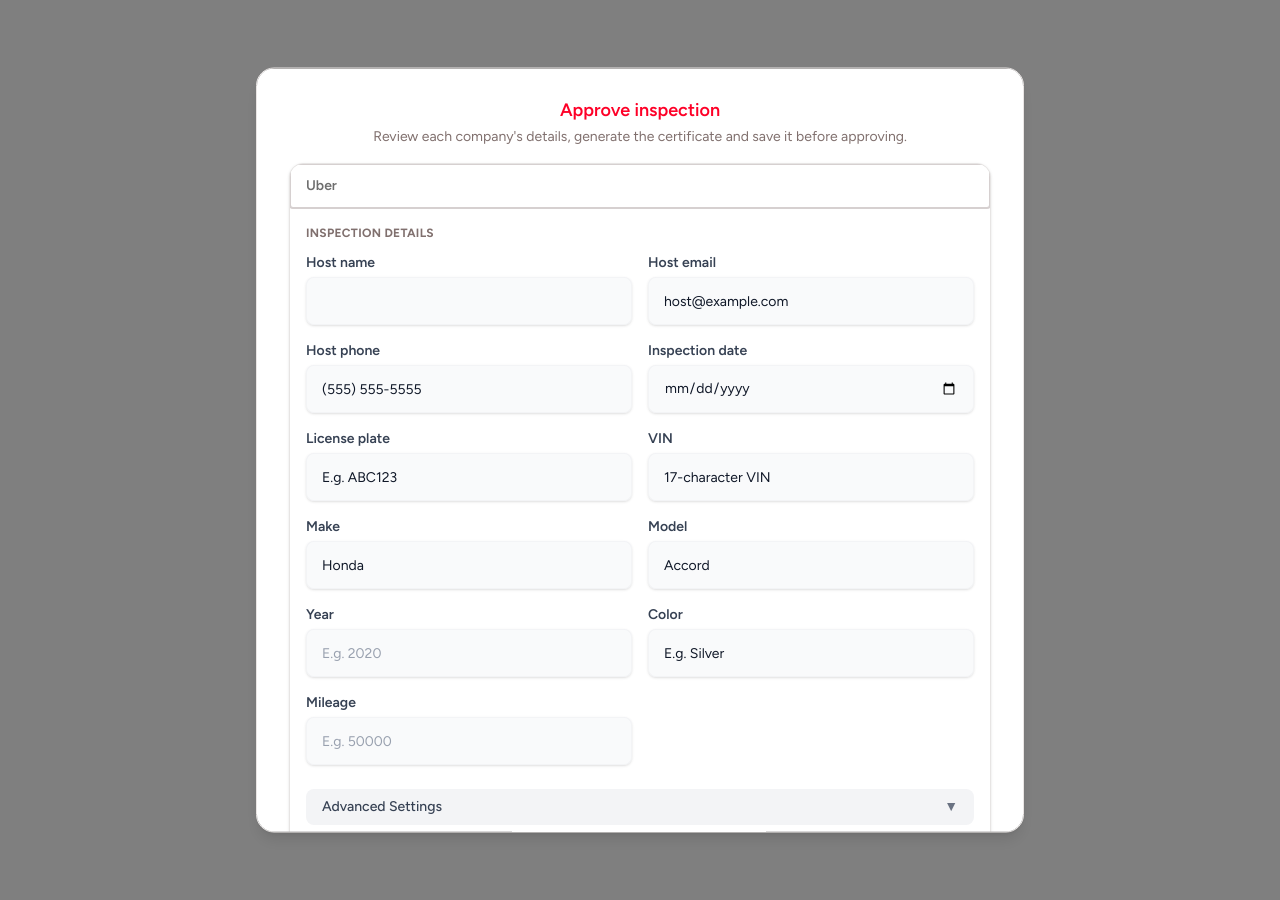
Test: ApprovalDialog › pre-fills the forms from the inspection approvalFields
The image size is (1280, 900).
Click the button "Advanced Settings ▼".
click(382, 806)  # box [306,788,974,824]
(page scrolled)
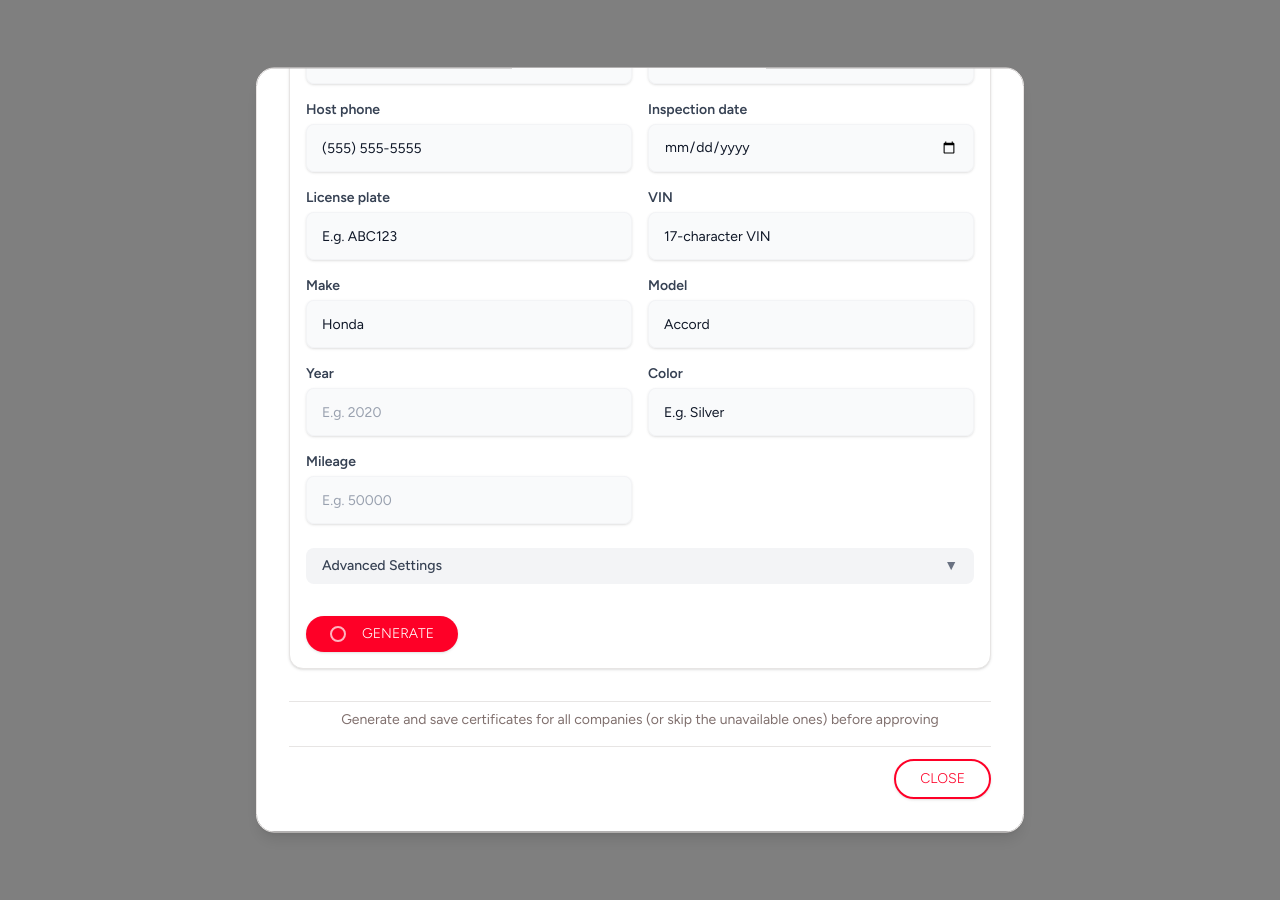
Click the button "Advanced Settings ▼".
click(382, 566)  # box [306,548,974,584]
(page scrolled)
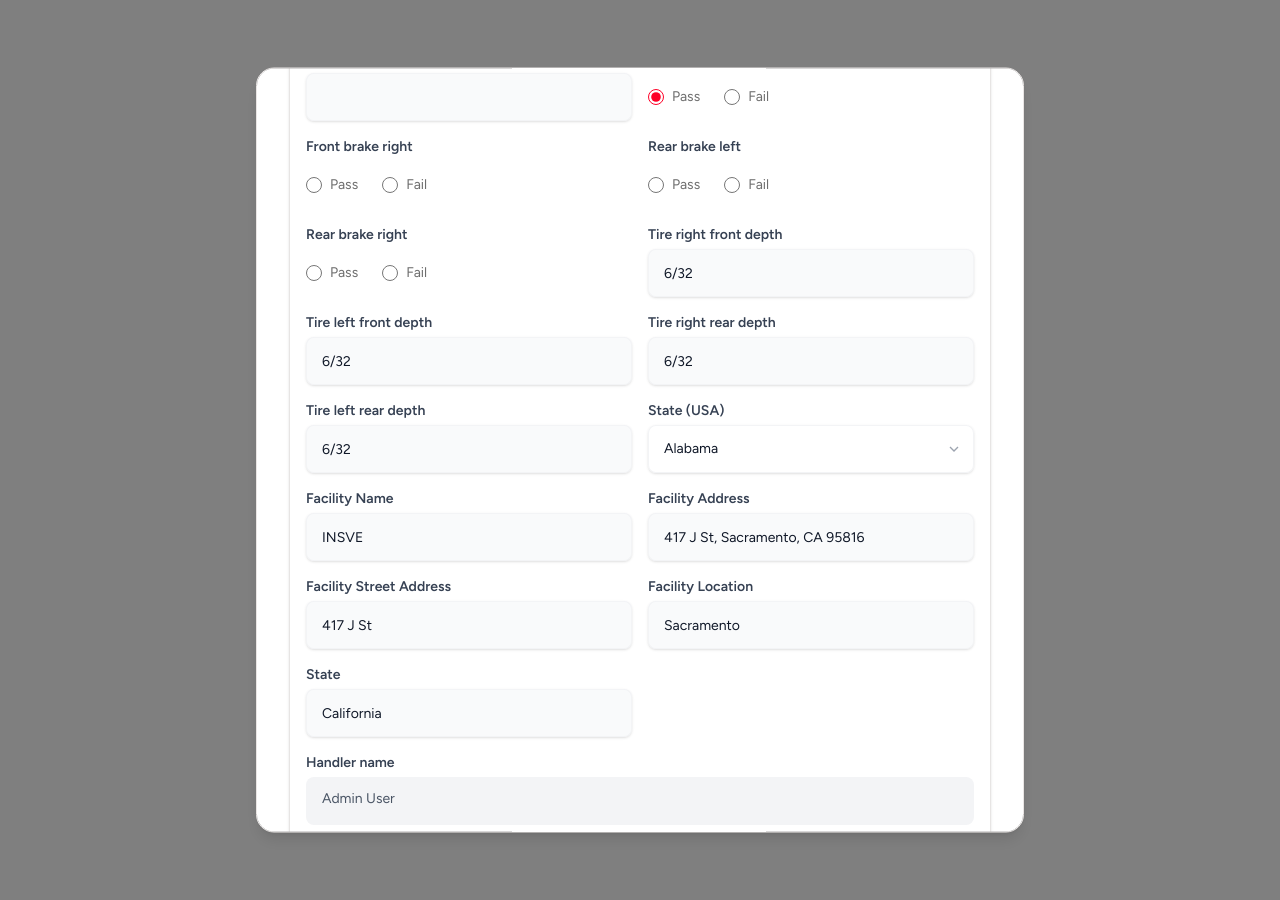
expect the dropdown showing "Alabama" is shown: met, box [648,426,974,474]
